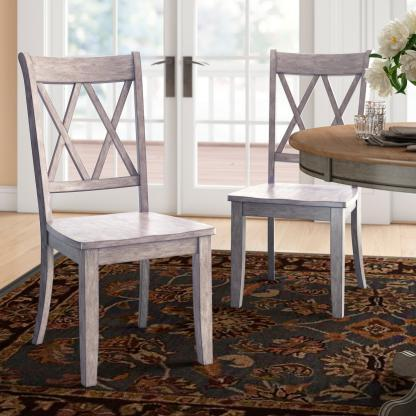chair: (18, 27, 220, 379), (226, 37, 380, 323)
door: (179, 0, 390, 224), (22, 0, 179, 212)
table: (284, 120, 416, 193)
